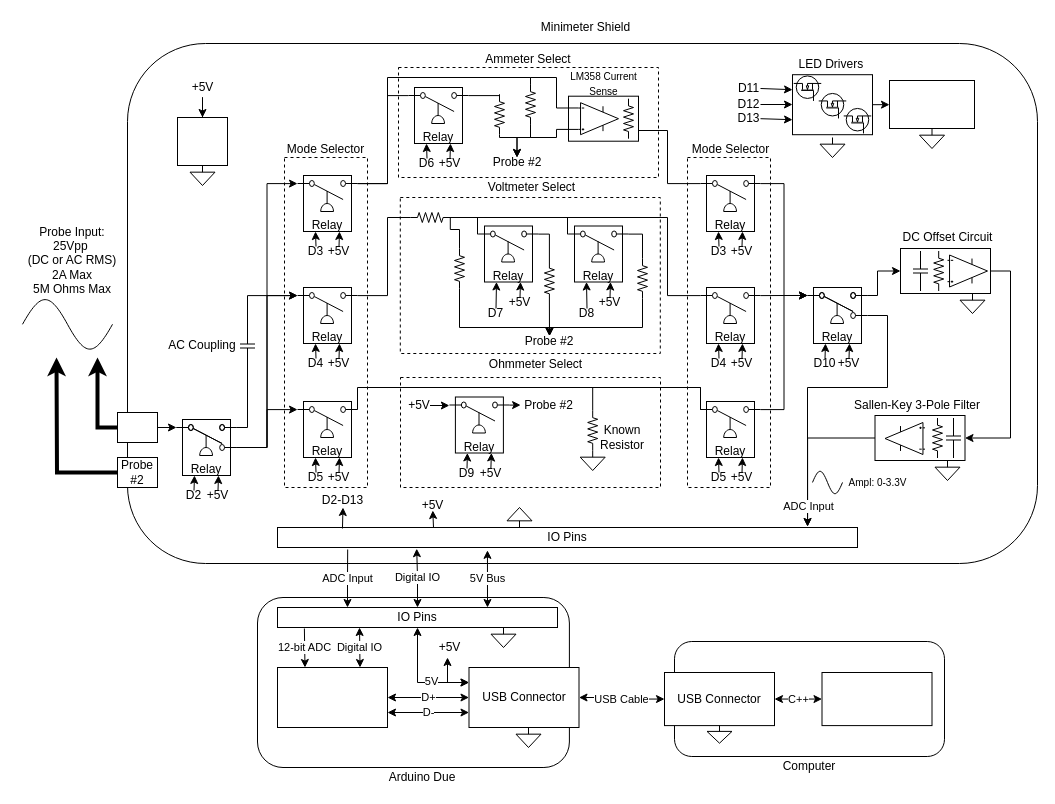
The diagram is 1055 pixels wide and 804 high, and some of its shapes have lost their labels. Each missing label, with the box of its shape:
GUI Control and Data Visualization: (821, 672, 932, 726)
Power LED Indicator: (176, 116, 228, 166)
Probe #1: (116, 412, 158, 442)
SAM Microcontroller: (276, 666, 388, 728)
State LED Array: (888, 80, 974, 128)
